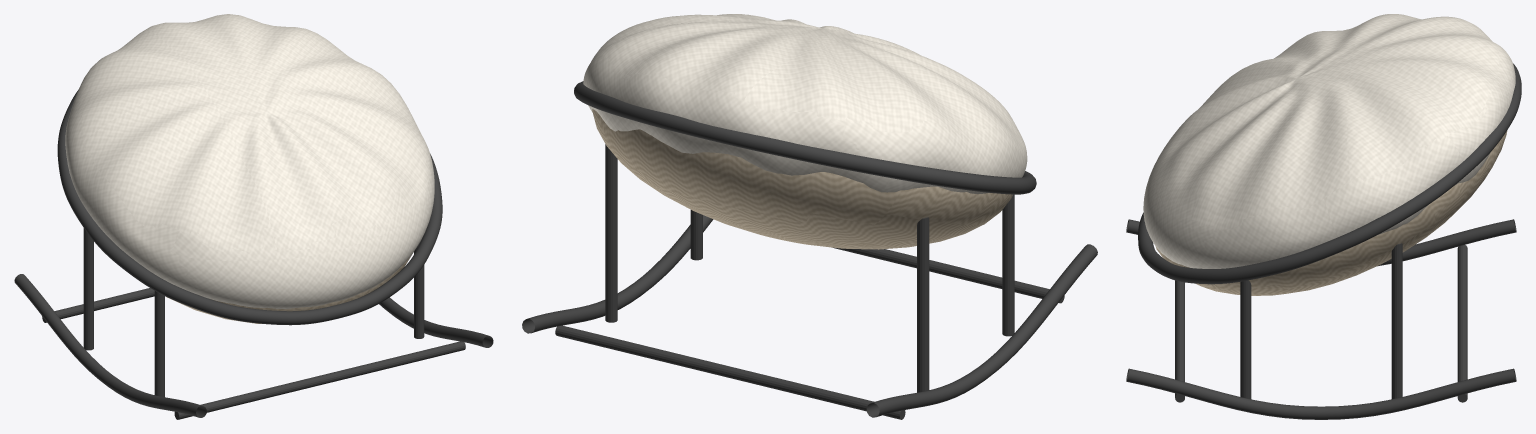
Rendered from boho_papasan_rocker.glb.
The picture shows the model from 3 angles, left to right: view 1: azimuth 30°, elevation 25°; view 2: azimuth 150°, elevation 25°; view 3: azimuth 270°, elevation 25°; orthographic projection. The views are drawn at different scales.
Visible parts, largest first — view 1: Boho_Papasan_Rocker; view 2: Boho_Papasan_Rocker; view 3: Boho_Papasan_Rocker.
Boxes of the visible parts, x1,y1,x2,y2 form: Boho_Papasan_Rocker: [14, 14, 493, 419]; Boho_Papasan_Rocker: [522, 14, 1097, 419]; Boho_Papasan_Rocker: [1126, 14, 1521, 419].
Bounding box in the file's own units: 0.9957 × 0.7859 × 0.9407.
Materials: 3 (2 with a texture image).
